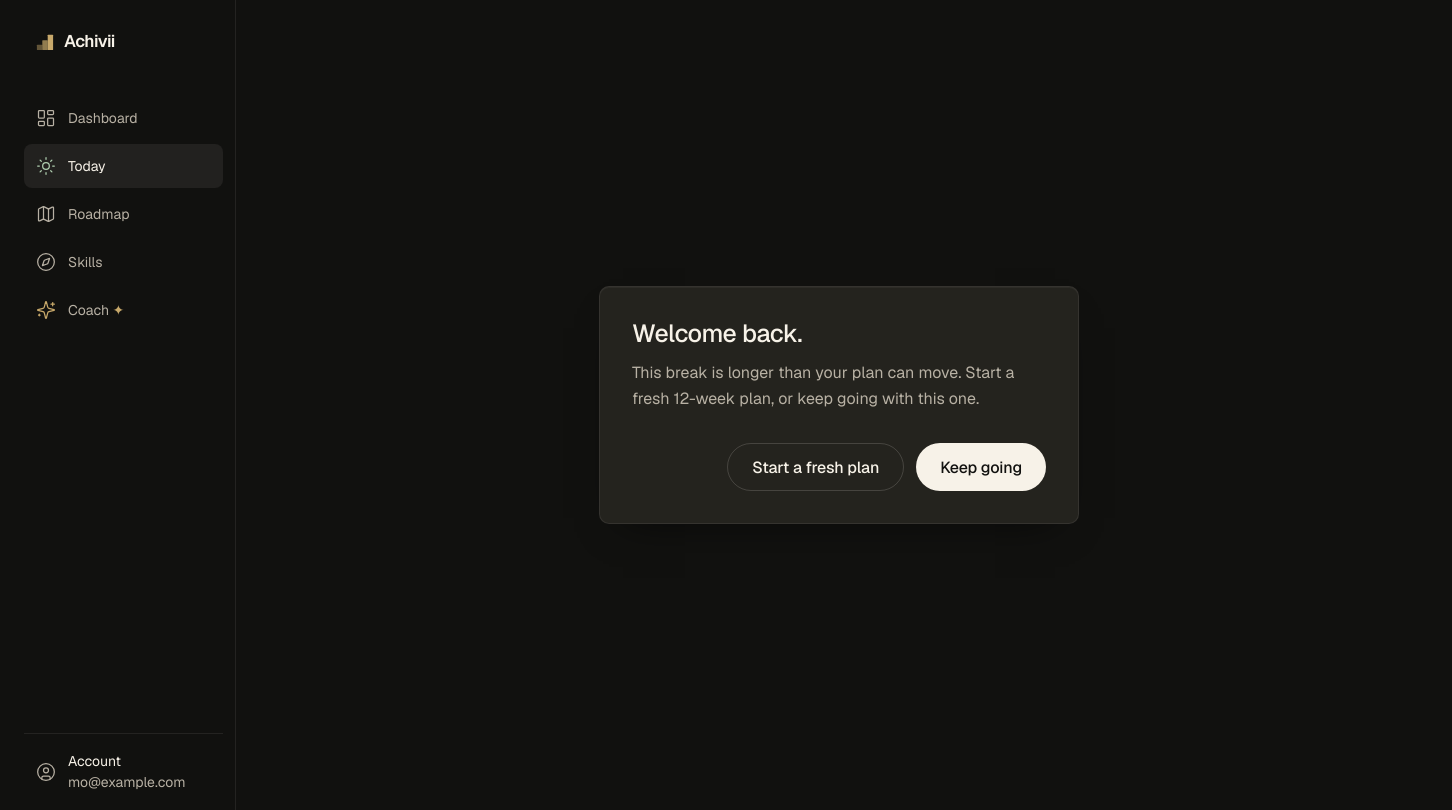
the choice card past the limit (WU-38, WU-40) › "Start a fresh plan" opens goal creation with the goal's text; nothing closes; coming back shows the card
Later steps or results of the test are not shown.
Click the button "Start a fresh plan" at (816, 468), box x1=727 y1=444 x2=904 y2=492
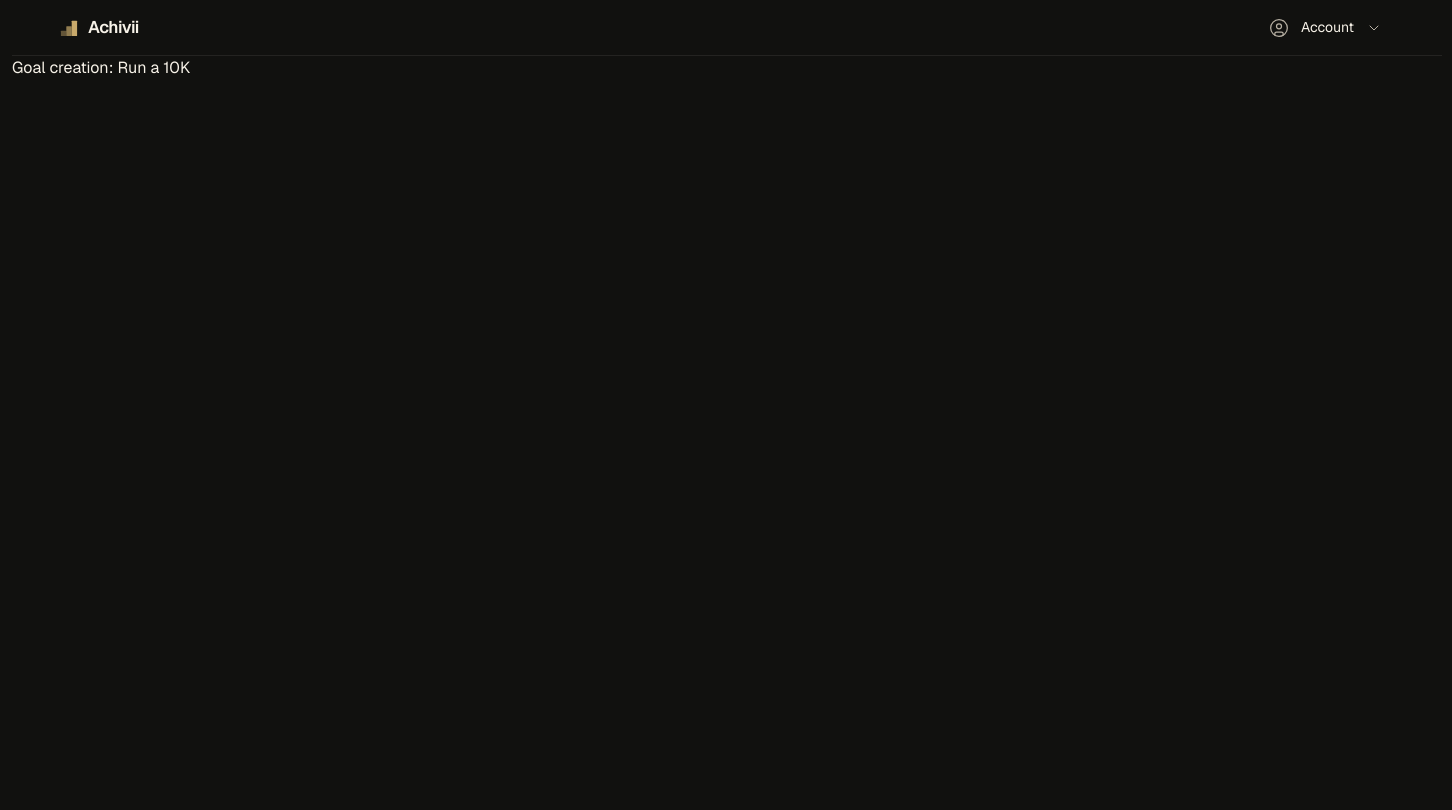
Expected: the text "Goal creation: Run a 10K" is shown, x1=12 y1=57 x2=190 y2=78
